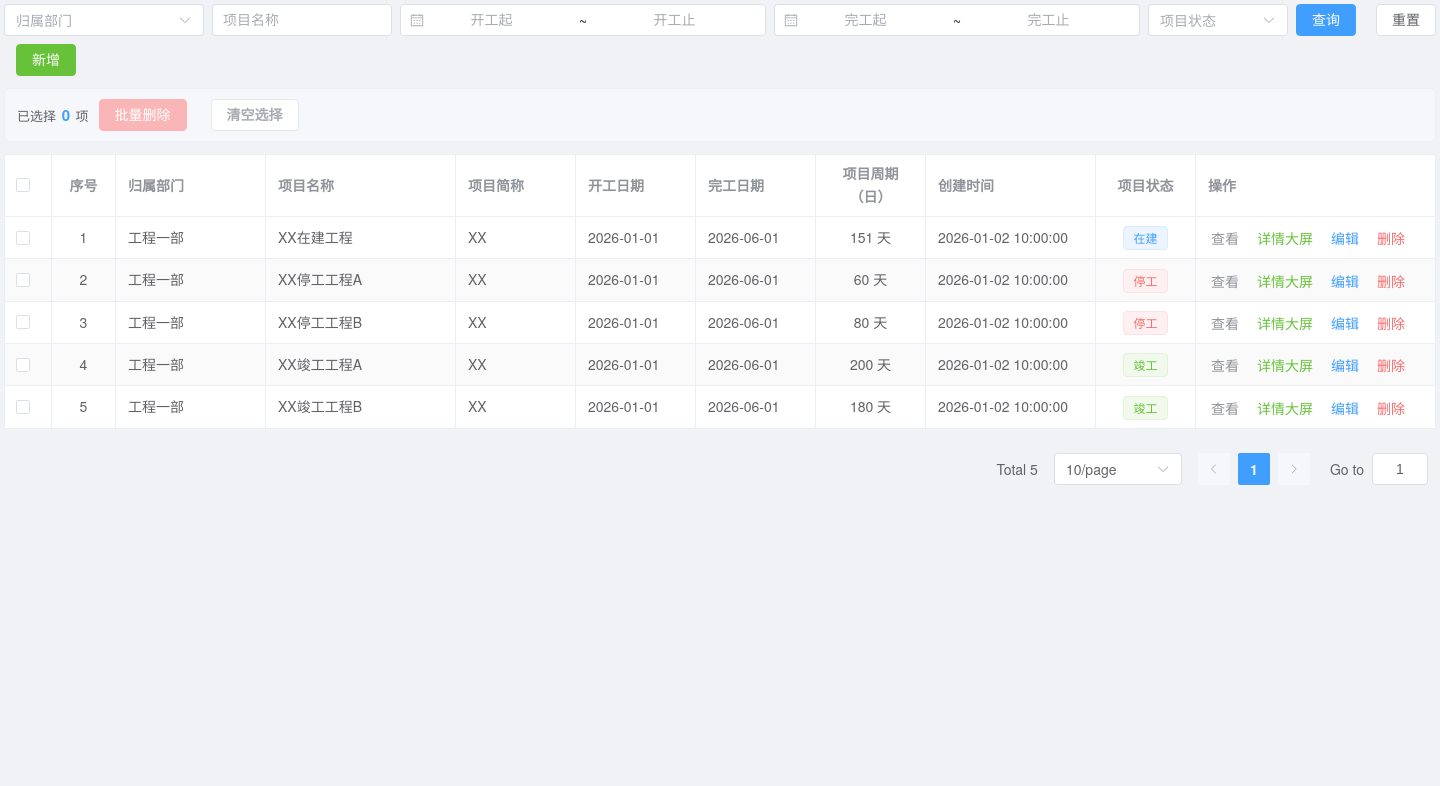
it: ProjectListView › 点击查看打开只读详情弹窗且不显示保存按钮
Click the button "查看" in the row of "XX在建工程".
click(1225, 239)  # box top-left (1208, 229), bottom-right (1242, 249)
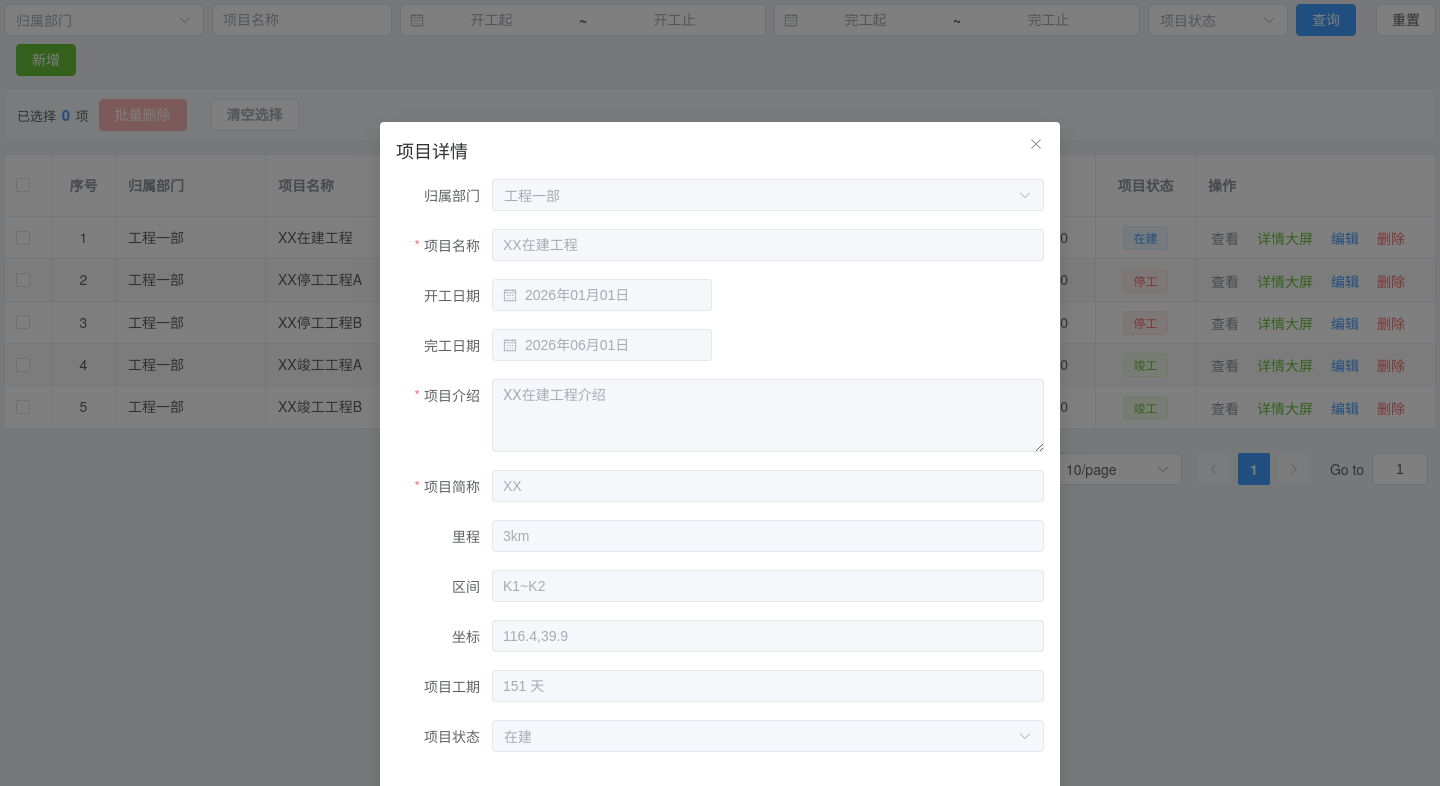
Expected: the text "XX在建工程" is shown, top-left (278, 227), bottom-right (353, 247)
Expected: the text "项目详情" is shown, top-left (396, 136), bottom-right (468, 162)
